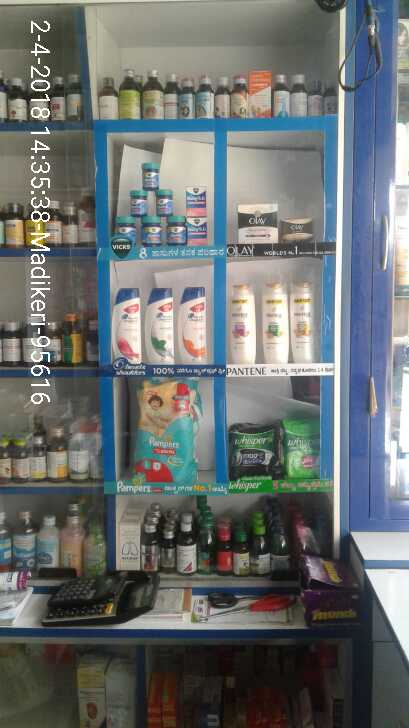vicks: (113, 159, 190, 244), (190, 187, 208, 244)
